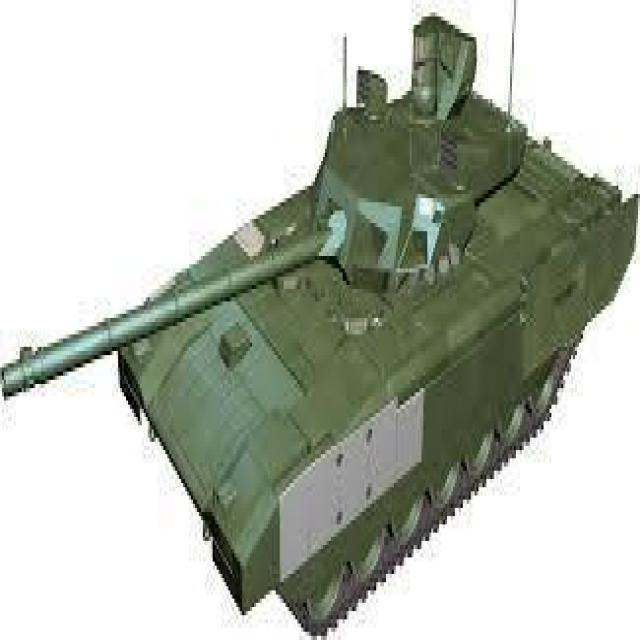Tanks: (35, 44, 610, 622)
